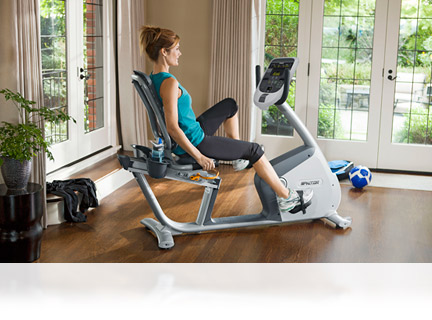gym_bike: (111, 52, 357, 253)
